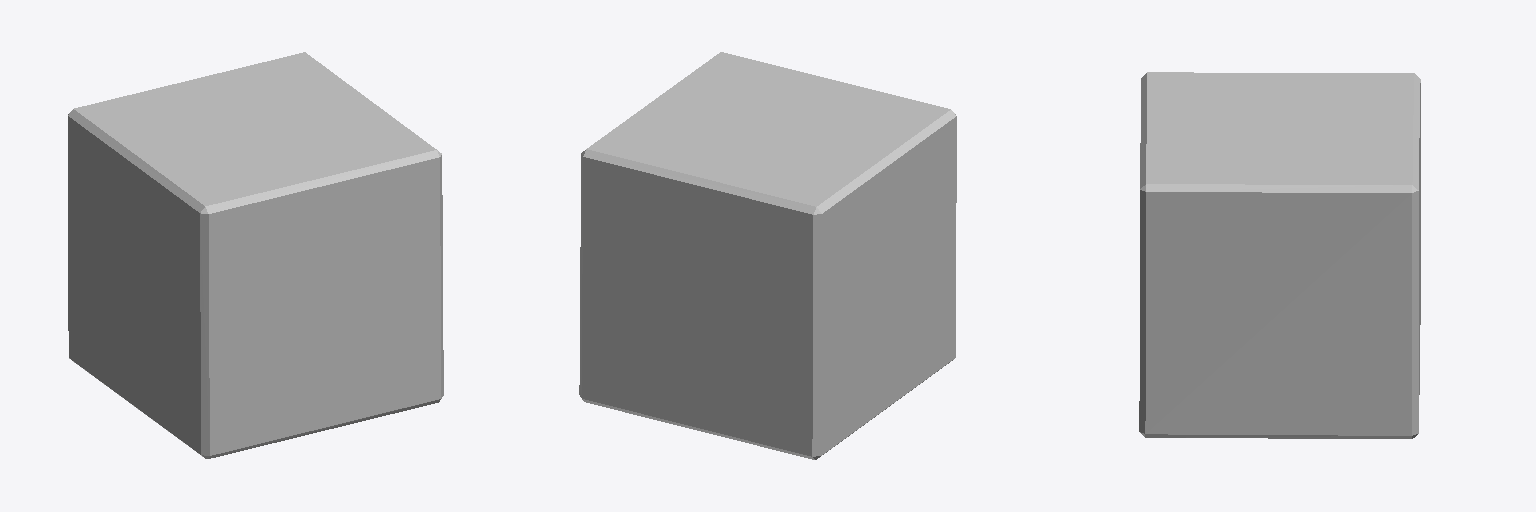
The picture shows the model from 3 angles: view 1: azimuth 30°, elevation 25°; view 2: azimuth 150°, elevation 25°; view 3: azimuth 270°, elevation 25°; orthographic projection.
Visible parts, largest first — view 1: sm_K100_DiceSet_03; view 2: sm_K100_DiceSet_03; view 3: sm_K100_DiceSet_03.
Boxes of the visible parts, <box> form: sm_K100_DiceSet_03: <box>68,52,443,458</box>; sm_K100_DiceSet_03: <box>579,52,956,459</box>; sm_K100_DiceSet_03: <box>1139,72,1420,438</box>.
Size of the model in its own units: 0.0142 by 0.0142 by 0.0142.